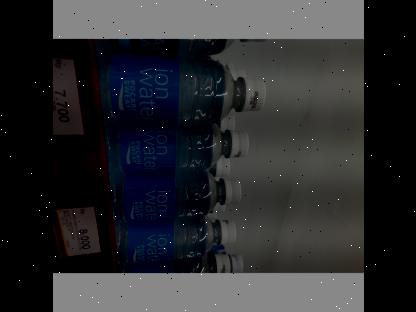Plastic Bottle: (78, 52, 282, 140), (84, 107, 276, 173), (79, 164, 268, 229), (84, 211, 250, 263)
